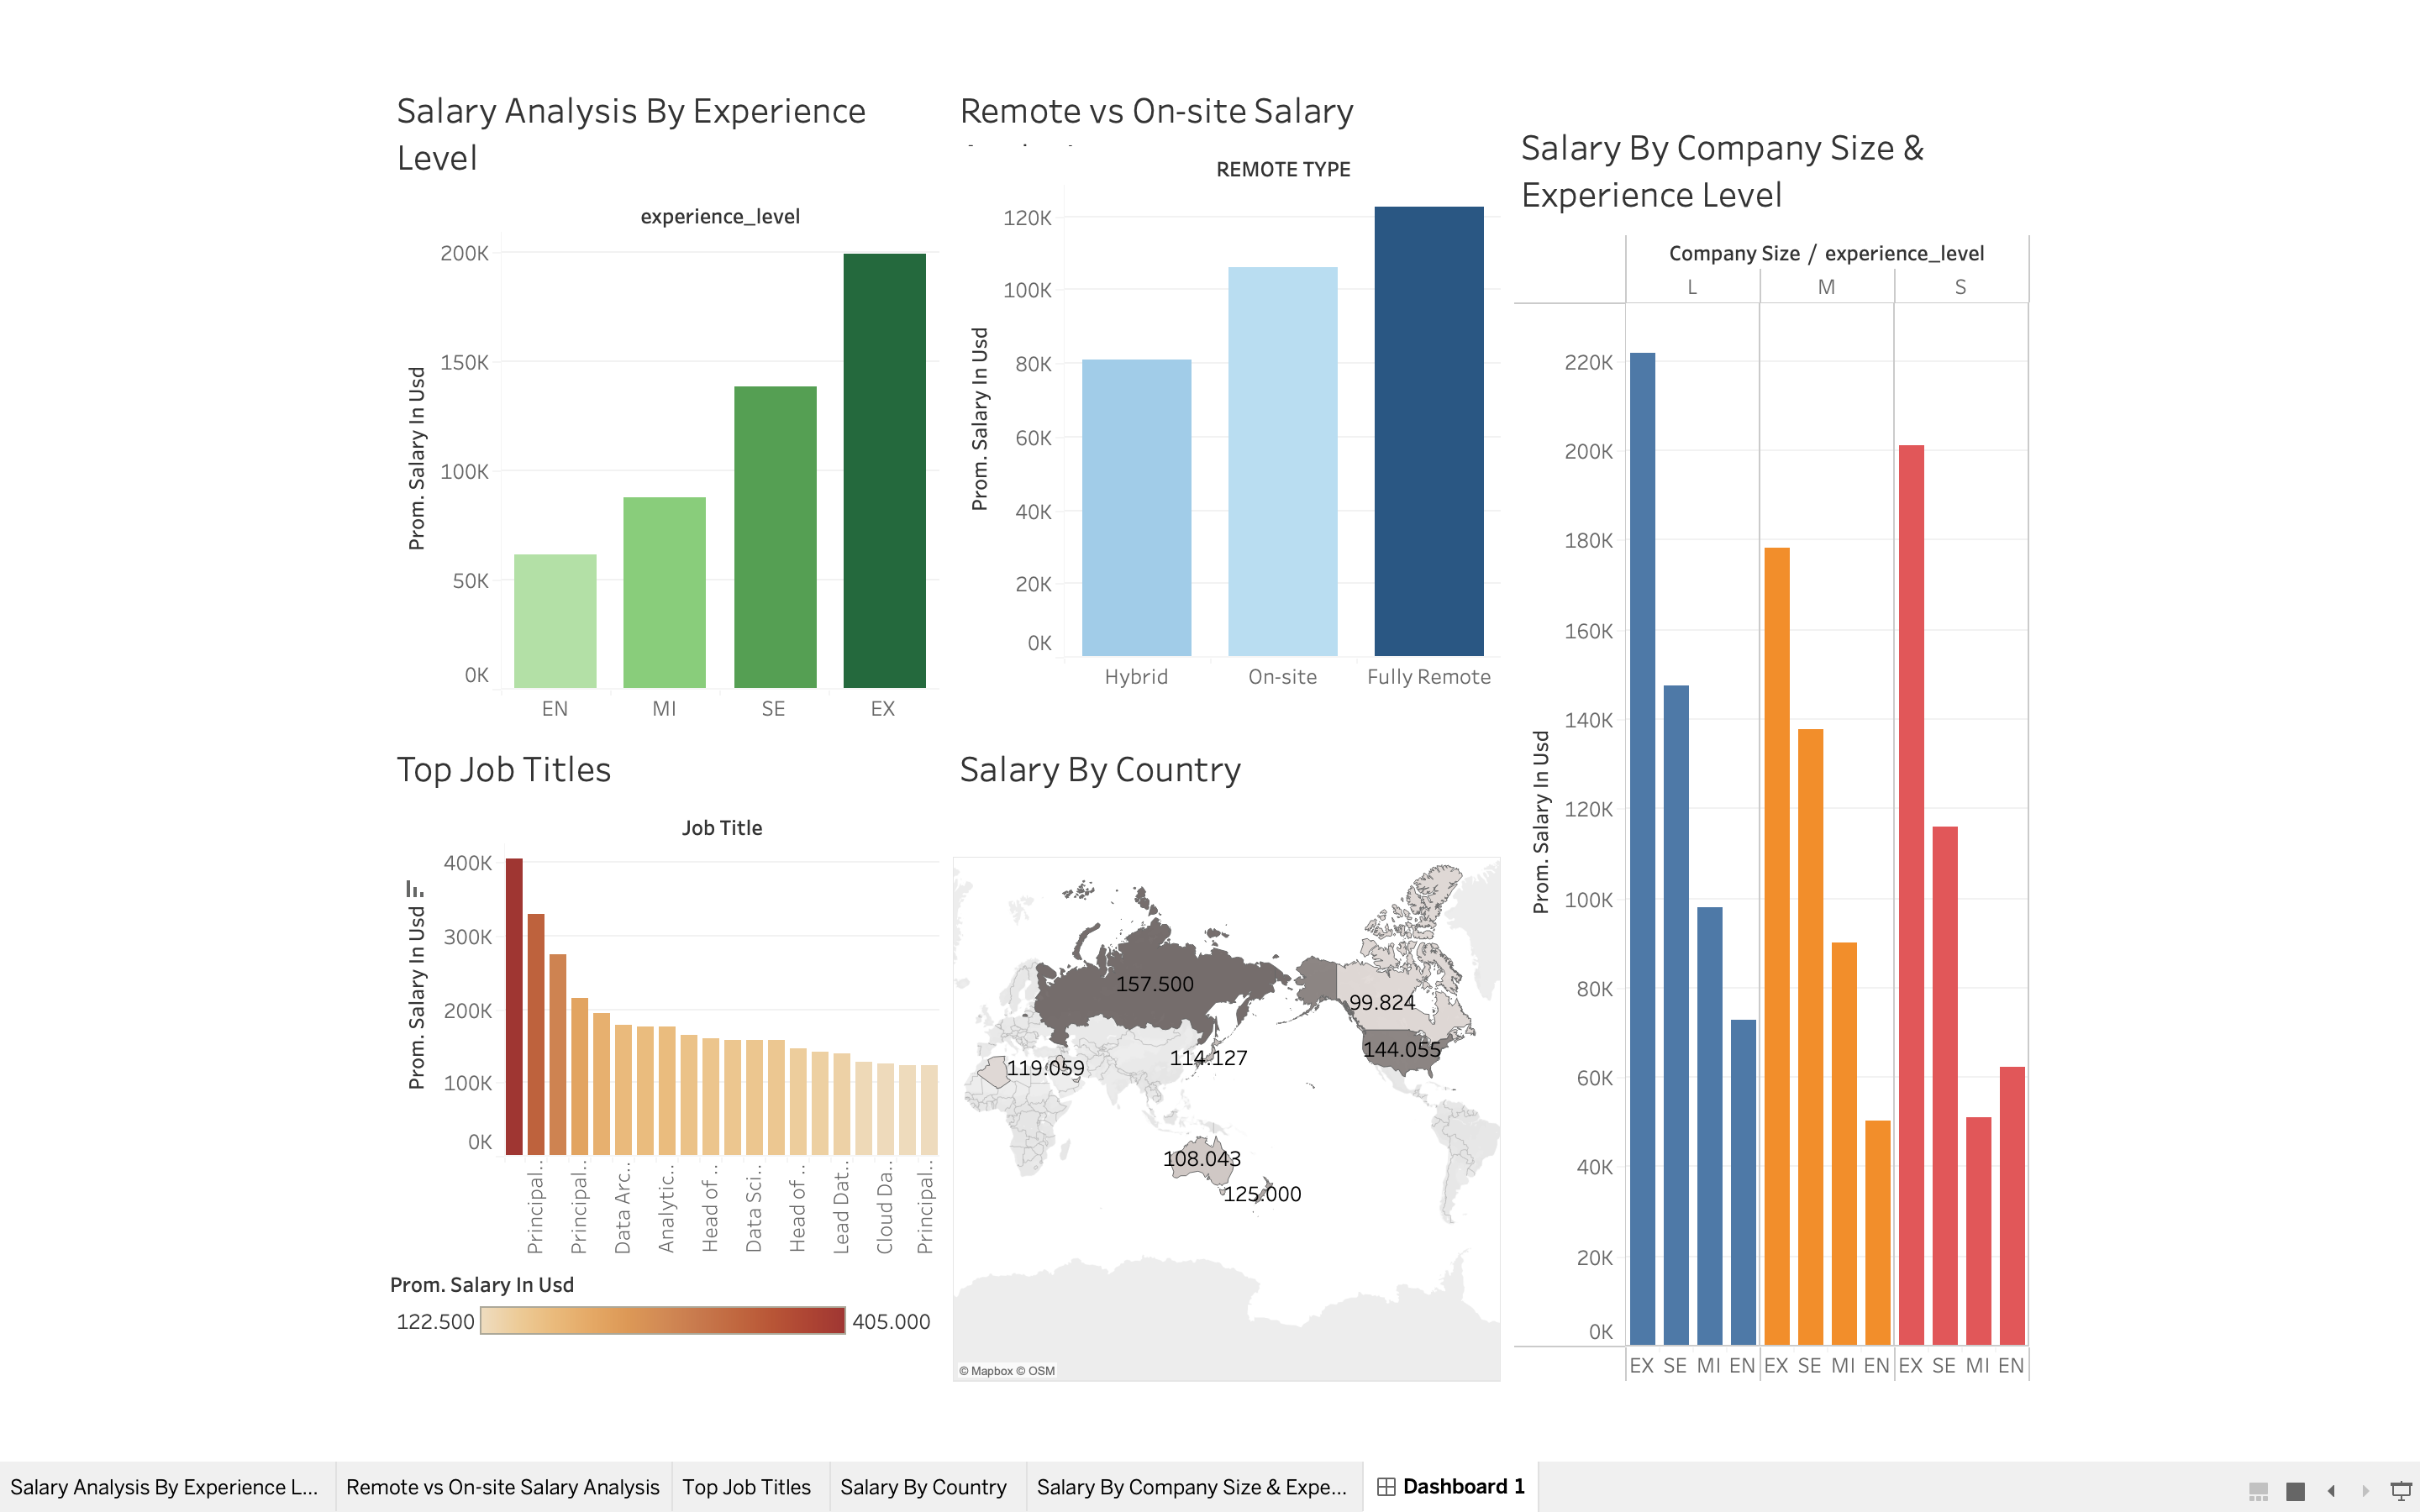

Layout of this report page (visuals, bound fields, positions):
{"tool":"tableau","page":{"name":"Dashboard 1","canvas":[1000,800],"ordinal":0},"visuals":[{"type":"worksheet","title":"Salary Analysis By Experience Level","mark":"Automatic","rows":["salary_in_usd"],"cols":["experience_level"],"box":[8,8,334.5,392]},{"type":"worksheet","title":"Remote vs On-site Salary Analysis","mark":"Bar","rows":["salary_in_usd"],"cols":["Calculation_0642003867009024"],"box":[342.5,8,334.5,392]},{"type":"legend","title":"Salary By Country","param":"[federated.19psdcw1hhoqqm11kv9ac0tovlrt].[avg:salary_in_usd:qk]","box":[677,8,315,22]},{"type":"worksheet","title":"Salary By Company Size & Experience Level","mark":"Automatic","rows":["salary_in_usd"],"cols":["company_size","experience_level"],"box":[677,30,315,762]},{"type":"worksheet","title":"Top Job Titles","mark":"Bar","rows":["salary_in_usd"],"cols":["job_title"],"box":[8,400,334.5,317]},{"type":"worksheet","title":"Salary By Country","mark":"Automatic","box":[342.5,400,334.5,392]},{"type":"legend","title":"Top Job Titles","param":"[federated.19psdcw1hhoqqm11kv9ac0tovlrt].[avg:salary_in_usd:qk]","box":[8,717,334.5,75]}]}

Visuals, with their boxes on the page's 1000x800 design canvas (x1, y1, x2, y2). These are canvas units, not pixel positions in the 2420x1512 screenshot, which may show the page scaled, cropped or inside an application window:
"Salary Analysis By Experience Level" worksheet: x1=8 y1=8 x2=342 y2=400
"Remote vs On-site Salary Analysis" worksheet (Bar marks): x1=342 y1=8 x2=677 y2=400
"Salary By Country" legend: x1=677 y1=8 x2=992 y2=30
"Salary By Company Size & Experience Level" worksheet: x1=677 y1=30 x2=992 y2=792
"Top Job Titles" worksheet (Bar marks): x1=8 y1=400 x2=342 y2=717
"Salary By Country" worksheet: x1=342 y1=400 x2=677 y2=792
"Top Job Titles" legend: x1=8 y1=717 x2=342 y2=792
